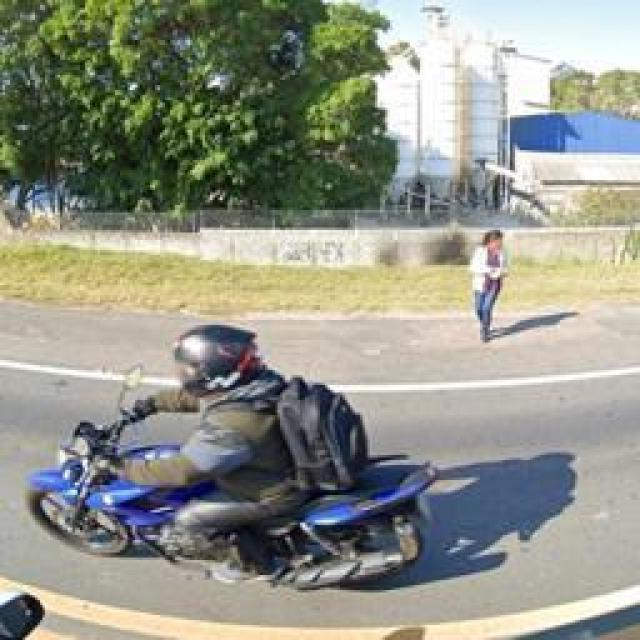motorcycle: (30, 419, 440, 590)
